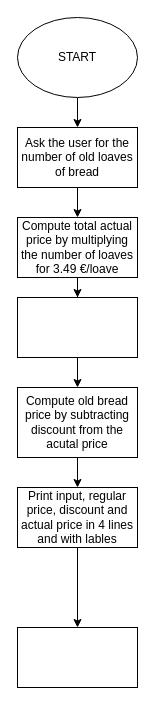
The diagram is 155 pixels wide and 705 high, and some of its shapes have lost their labels. The shapes that lost their labels are listed below. From the top down, each one's centre as x and y in pixels, then its label:
At (x=77, y=327): "Compute discount by multiplying regular price for 40%".
At (x=77, y=657): "END".
